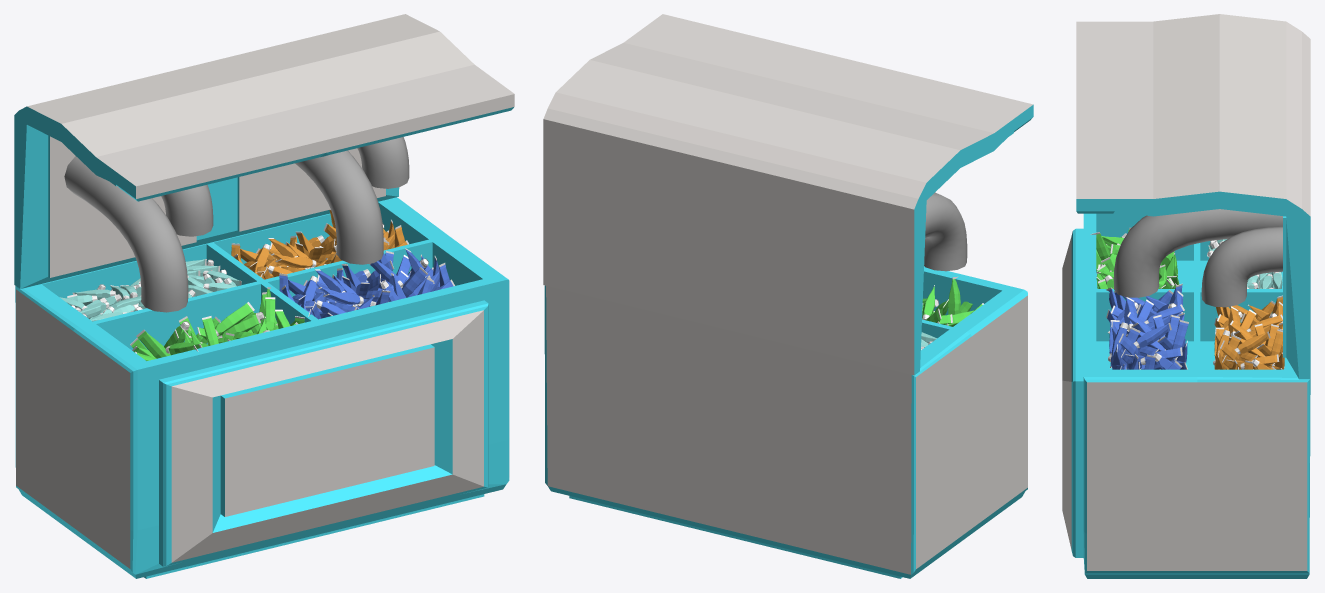
File: dining-room dispancer For Unity.fbx
3 views of the same model, side by side, from view 1: azimuth 30°, elevation 25°; view 2: azimuth 150°, elevation 25°; view 3: azimuth 270°, elevation 25° (orthographic). The views are drawn at different scales.
Visible parts, largest first — view 1: Cube.088; view 2: Cube.088; view 3: Cube.088.
Boxes of the visible parts, x1,y1,x2,y2 form: Cube.088: [14, 14, 514, 578]; Cube.088: [543, 14, 1033, 578]; Cube.088: [1062, 14, 1310, 578].
Bounding box in the file's own units: 62.58 × 65.17 × 36.95.
